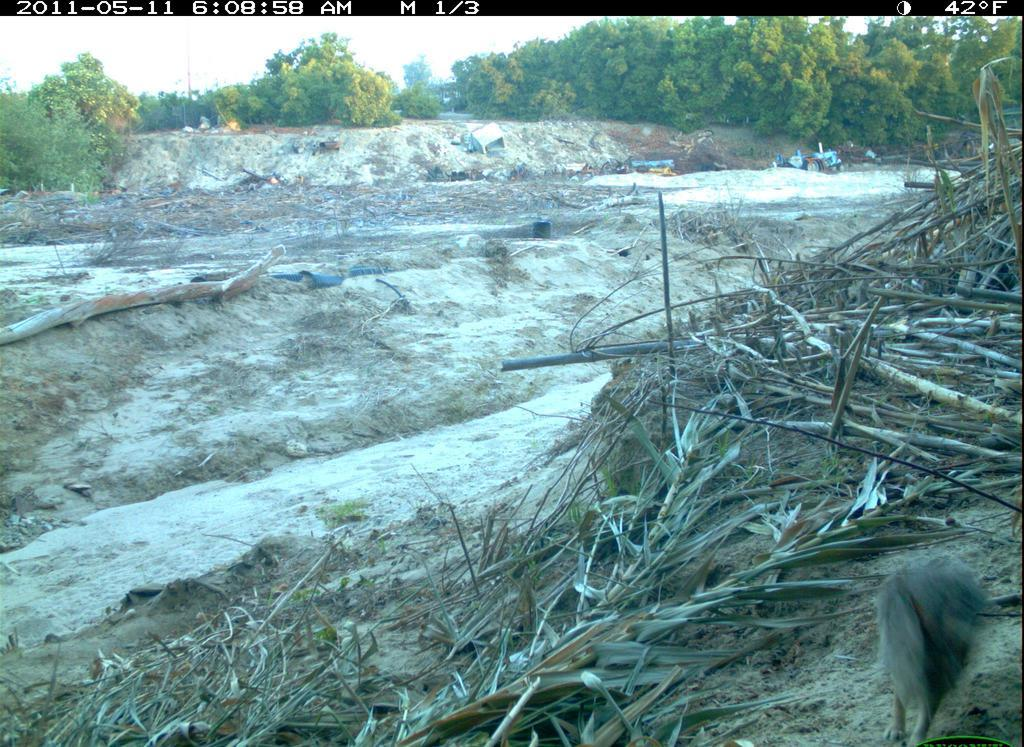rabbit: (852, 541, 999, 740)
